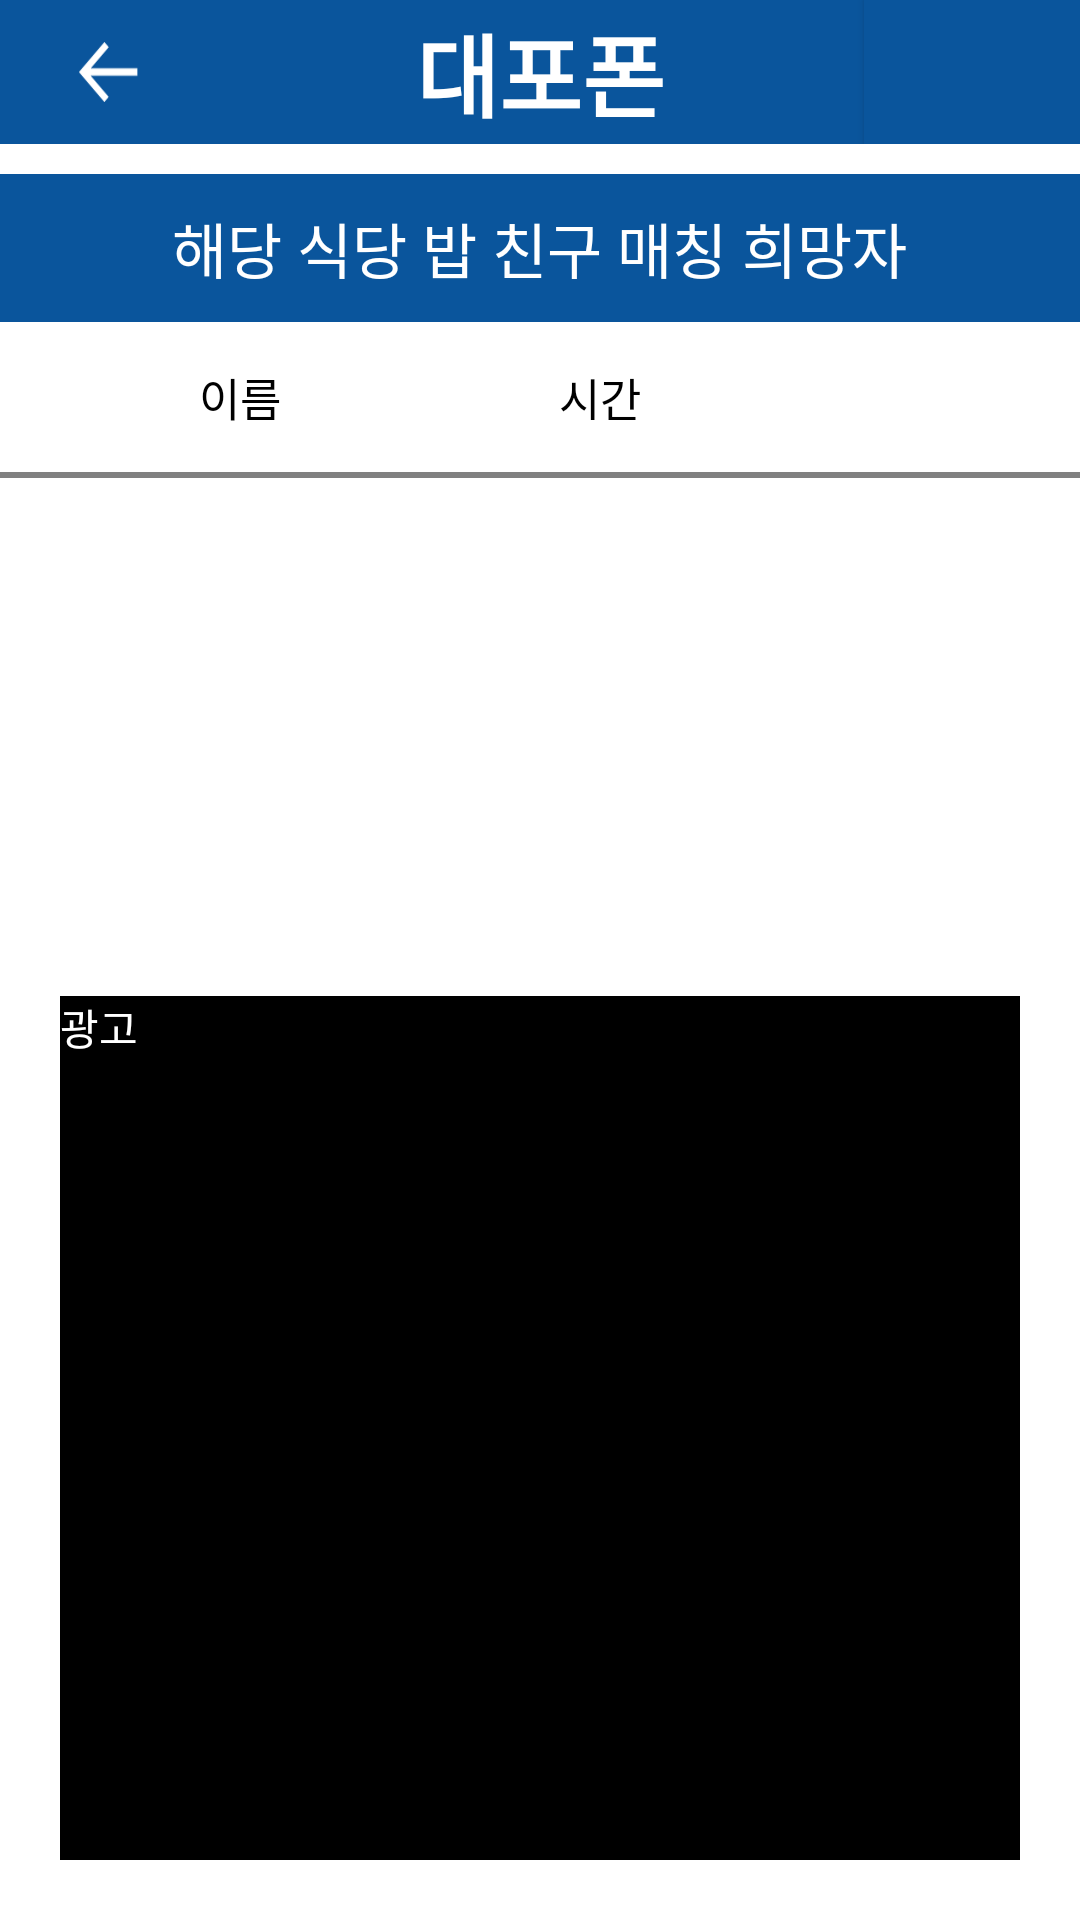

Icons on this 1080 x 1920 Android screen, each with the point to tap as (x,y):
back arrow resize: (108,72)
